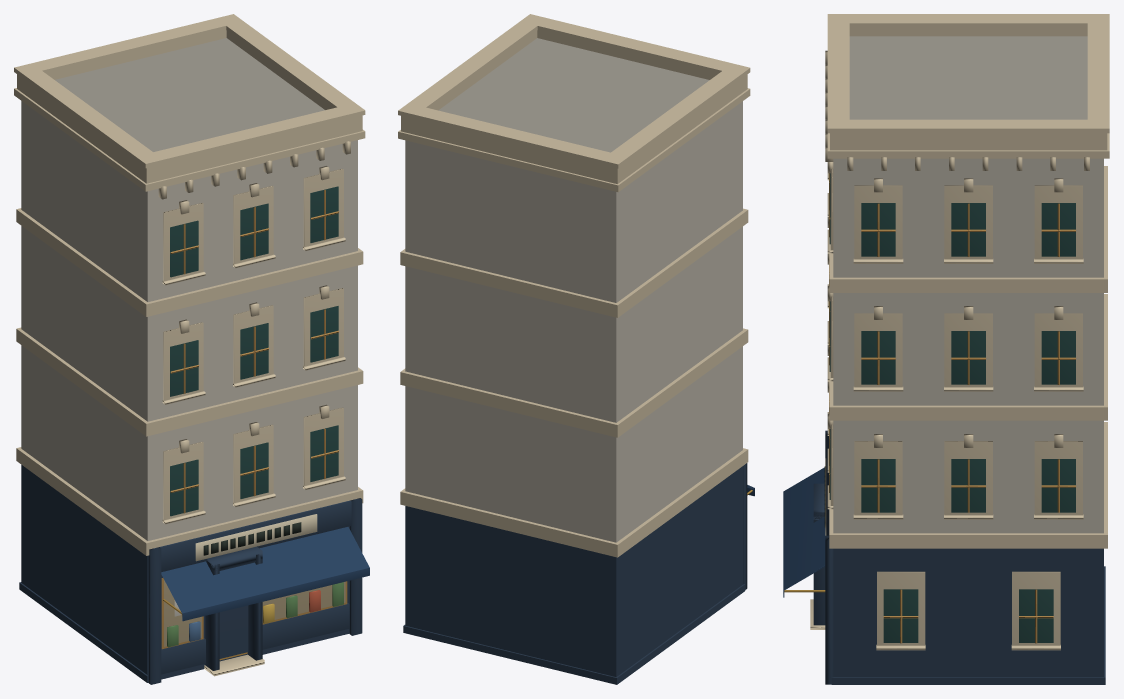
File: city_stone_4.glb
3 views of the same model, side by side, from view 1: azimuth 30°, elevation 25°; view 2: azimuth 150°, elevation 25°; view 3: azimuth 270°, elevation 25° (orthographic). The views are drawn at different scales.
Parts seen in each view (by area): view 1: city_stone_4; view 2: city_stone_4; view 3: city_stone_4.
Boxes of the visible parts, left/top/right/bottom form: city_stone_4: left=14, top=14, right=369, bottom=684; city_stone_4: left=398, top=14, right=754, bottom=684; city_stone_4: left=783, top=14, right=1109, bottom=684.
Size of the model in its own units: 4.75 by 10.69 by 5.67.
